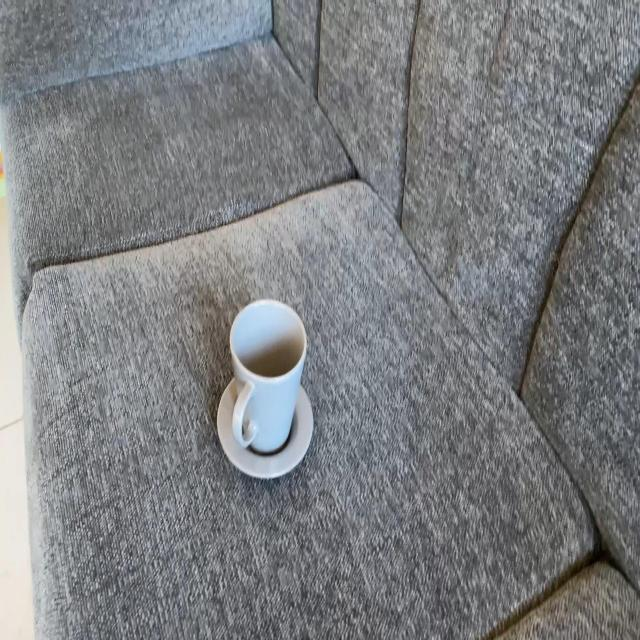cup: (225, 298, 306, 456)
